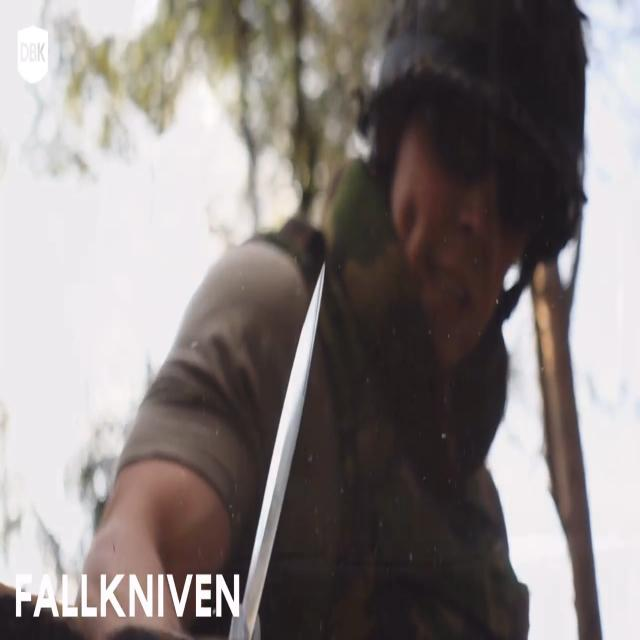knife: (230, 243, 339, 640)
